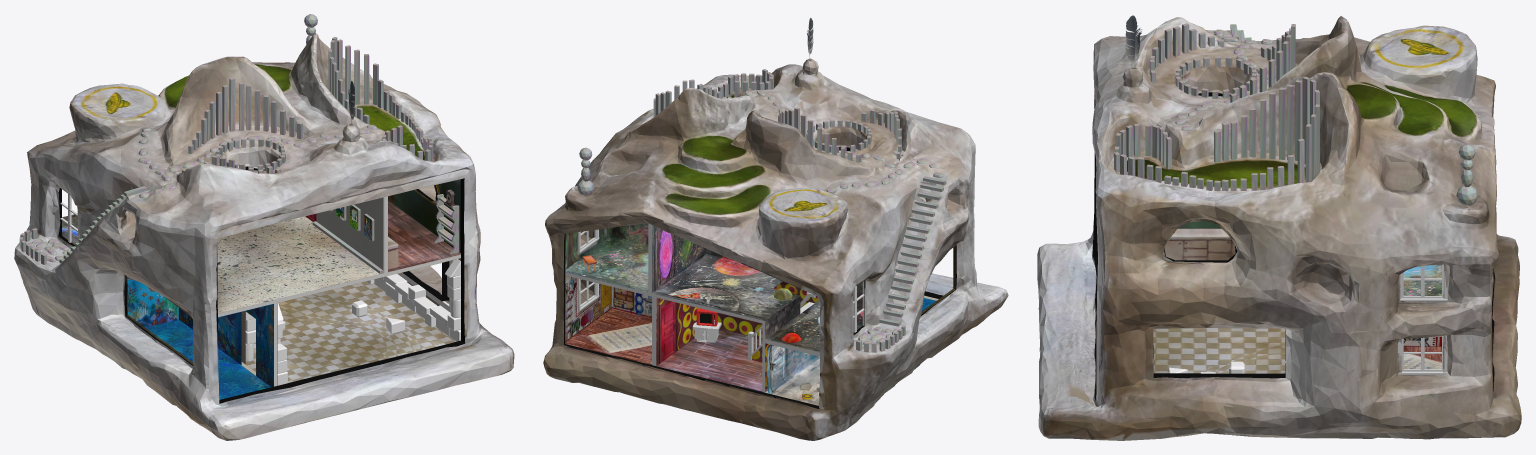
The model's file is SarahTest3textures.glb.
3 views of the same model, side by side, from view 1: azimuth 30°, elevation 25°; view 2: azimuth 150°, elevation 25°; view 3: azimuth 270°, elevation 25° (orthographic). The views are drawn at different scales.
Parts seen in each view (by area): view 1: Hülle cleanup.007, GalarieRaum, Cube.001, geometrieraum, Aquariumraum, Cube.012, werkstatt, Icosphere.001, Gitter_noface; view 2: Hülle cleanup.007, AstroRaum, Cube.001, Teppichraum, Dino_raum, Gitter_noface, warp_treppenraum_U_fix, Bake.003, Icosphere.001, warp_treppenraum_L_fix, warp_treppenraum_H_fix, Door02.001 (+2 smaller); view 3: Hülle cleanup.007, Cube.001, geometrieraum, Cube.031, Icosphere.001, Gitter_noface, Teppichraum, Dino_raum, Tauben_feder_a.
Part boxes in pixels (x1,y1,x2,y2): Hülle cleanup.007: (14, 33, 514, 440); GalarieRaum: (217, 171, 384, 313); Cube.001: (19, 37, 459, 273); geometrieraum: (245, 254, 460, 382); Aquariumraum: (128, 277, 273, 399); Cube.012: (241, 258, 460, 385); werkstatt: (388, 179, 460, 271); Icosphere.001: (27, 14, 376, 262); Gitter_noface: (60, 170, 460, 386); Hülle cleanup.007: (543, 58, 1008, 440); AstroRaum: (652, 225, 862, 352); Cube.001: (653, 69, 946, 352); Teppichraum: (565, 275, 656, 364); Dino_raum: (565, 223, 648, 292); Gitter_noface: (565, 150, 864, 392); warp_treppenraum_U_fix: (656, 330, 767, 391); Bake.003: (766, 344, 819, 405); Icosphere.001: (577, 90, 943, 348); warp_treppenraum_L_fix: (656, 297, 700, 365); warp_treppenraum_H_fix: (709, 254, 818, 339); Door02.001: (661, 301, 675, 361); Hülle cleanup.007: (1037, 16, 1521, 440); Cube.001: (1114, 23, 1319, 191); geometrieraum: (1153, 328, 1285, 373); Cube.031: (1164, 229, 1235, 260); Icosphere.001: (1175, 29, 1477, 205); Gitter_noface: (1209, 96, 1447, 375); Teppichraum: (1403, 336, 1441, 369); Dino_raum: (1403, 264, 1441, 295); Tauben_feder_a: (1125, 15, 1141, 67).
Bounding box in the file's own units: 17.09 × 13.25 × 16.52.
Materials: 59 (59 with a texture image).
